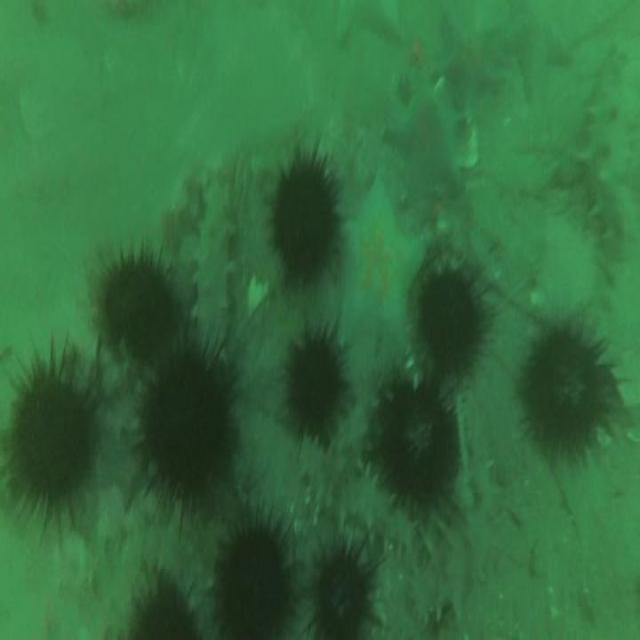echinus: (138, 349, 236, 493), (11, 360, 92, 502), (523, 322, 605, 455), (377, 387, 460, 496), (216, 524, 291, 640), (103, 259, 177, 368), (270, 160, 338, 276), (419, 272, 481, 374), (287, 335, 341, 430), (313, 552, 371, 638), (126, 584, 194, 640)
holothurian: (412, 452, 498, 627), (302, 436, 414, 553), (584, 38, 640, 240), (190, 185, 236, 348)
starfish: (339, 177, 425, 349), (390, 78, 460, 198), (504, 0, 572, 101), (434, 11, 501, 98)
